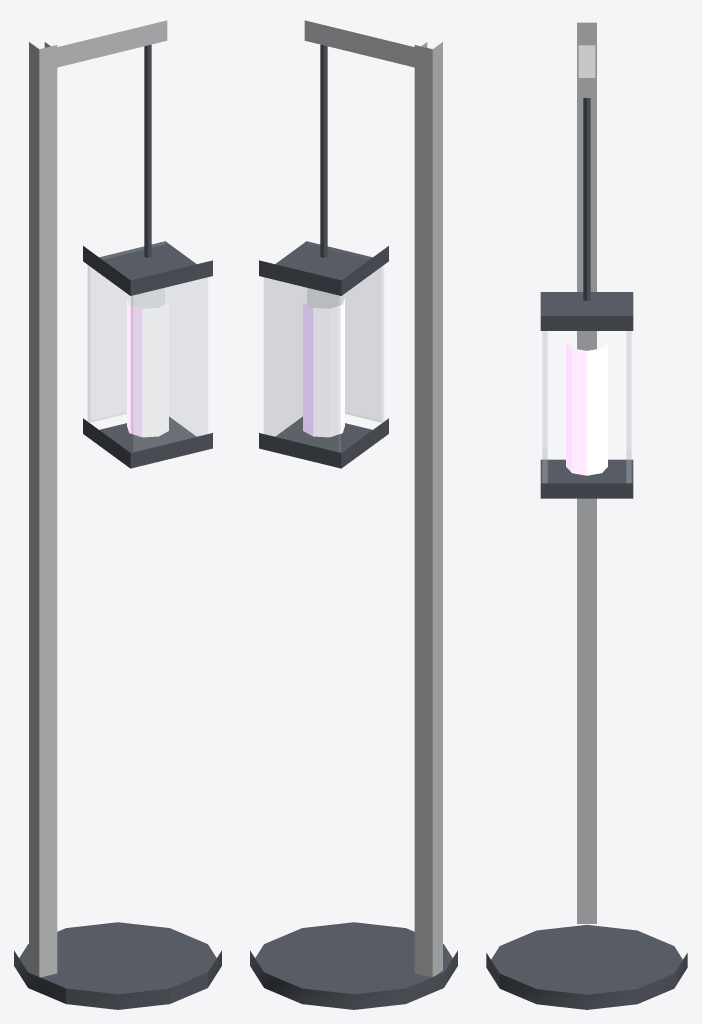
The model's file is ext_violet_field_lamp_04.glb.
3 views of the same model, side by side, from view 1: azimuth 30°, elevation 25°; view 2: azimuth 150°, elevation 25°; view 3: azimuth 270°, elevation 25° (orthographic). The views are drawn at different scales.
Visible parts, largest first — view 1: Post, Panes, Ground_Disc, Lantern_Plates, Violet_Core, Arm, Hanger; view 2: Post, Panes, Ground_Disc, Lantern_Plates, Violet_Core, Arm, Hanger; view 3: Ground_Disc, Post, Lantern_Plates, Violet_Core, Panes, Hanger, Arm.
Part boxes in pixels (left/top/right/bottom): Post: left=29, top=42, right=57, bottom=977; Panes: left=88, top=242, right=207, bottom=452; Ground_Disc: left=14, top=922, right=221, bottom=1009; Lantern_Plates: left=83, top=241, right=212, bottom=468; Violet_Core: left=127, top=298, right=168, bottom=437; Arm: left=44, top=20, right=167, bottom=67; Hanger: left=144, top=44, right=151, bottom=257; Post: left=414, top=42, right=442, bottom=977; Panes: left=264, top=242, right=383, bottom=452; Ground_Disc: left=250, top=922, right=457, bottom=1009; Lantern_Plates: left=259, top=241, right=388, bottom=468; Violet_Core: left=303, top=298, right=344, bottom=437; Arm: left=304, top=20, right=427, bottom=67; Hanger: left=320, top=44, right=327, bottom=257; Ground_Disc: left=486, top=925, right=687, bottom=1009; Post: left=577, top=22, right=596, bottom=923; Lantern_Plates: left=540, top=292, right=633, bottom=498; Violet_Core: left=566, top=342, right=607, bottom=475; Panes: left=542, top=331, right=631, bottom=482; Hanger: left=583, top=98, right=590, bottom=300; Arm: left=578, top=45, right=595, bottom=97.
Bounding box in the file's own units: 0.24 × 1.2 × 0.24.
